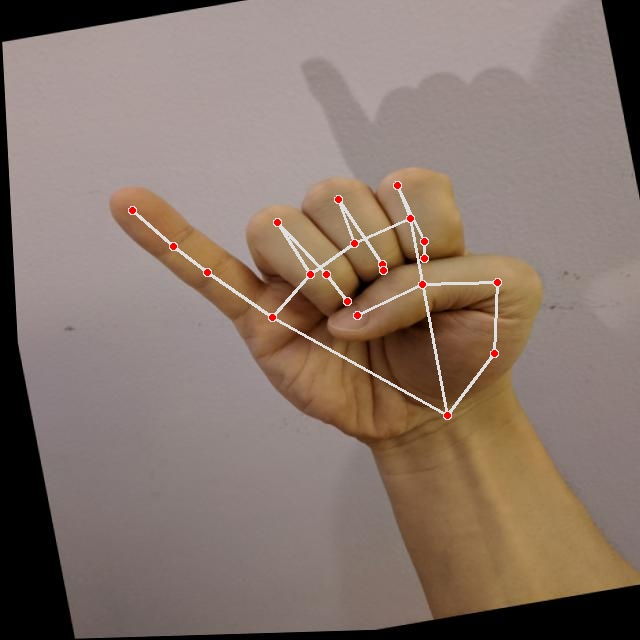I: (93, 114, 575, 490)
